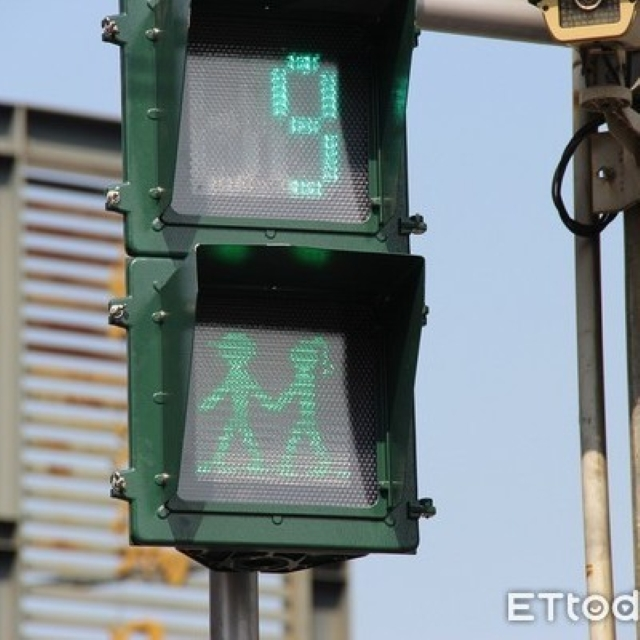green_light: (117, 1, 420, 558)
